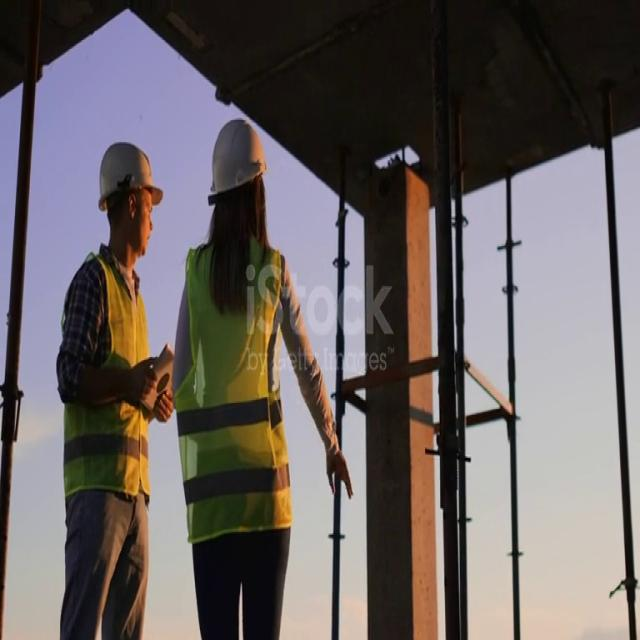capacete: (188, 110, 276, 211), (89, 128, 167, 217)
